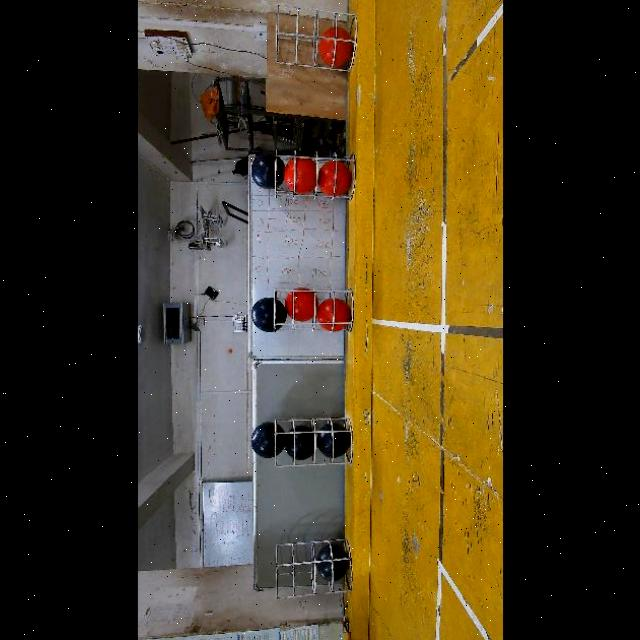P: (314, 543, 348, 583), (249, 297, 286, 332), (249, 421, 284, 458), (249, 153, 283, 190), (315, 423, 349, 458), (282, 424, 312, 459)
R: (316, 26, 352, 68), (282, 155, 315, 193), (282, 287, 316, 322), (315, 298, 349, 331), (316, 161, 349, 195)
S: (272, 4, 358, 74), (272, 536, 352, 600), (272, 148, 356, 202), (270, 415, 352, 469), (270, 286, 354, 334)
